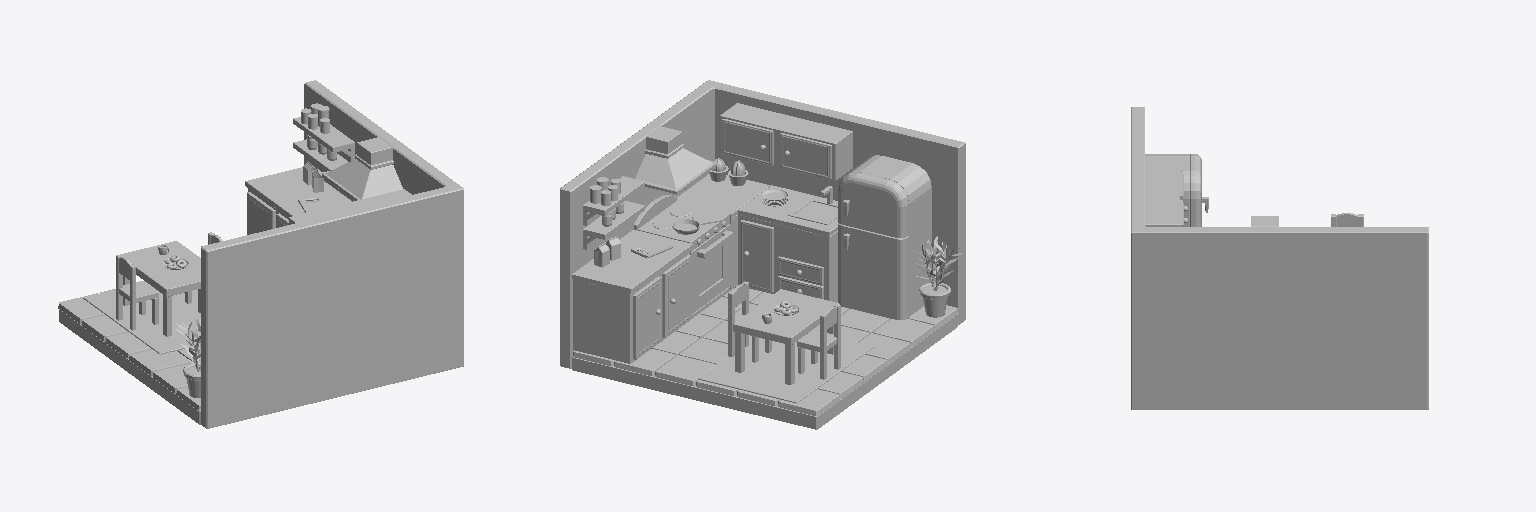
File: Kitchen.obj
3 views of the same model, side by side, from view 1: azimuth 30°, elevation 25°; view 2: azimuth 150°, elevation 25°; view 3: azimuth 270°, elevation 25° (orthographic).
Visible parts, largest first — view 1: Wall_Cube.003, Floor_tile_Cube.001, Counter_Icosphere, Carpet_Cube.057, Table_Cube.051, Hood_Cube.063, Floor_Cube, Chair.001_Cube.061, Plant_Cylinder.018, Wall_shelf_Icosphere.005, Hang_shelf.001_Cube.050, Wood_jar_Cylinder.006 (+1 smaller); view 2: Wall_Cube.003, Fridge_Cube.018, Floor_tile_Cube.001, Counter_Icosphere, Counter_with_sink_Cube.041, Wall_shelf_Icosphere.005, Stove_Cube.053, Floor_Cube, Carpet_Cube.057, Table_Cube.051, Hood_Cube.063, Counter_corner_Cube.021 (+6 smaller); view 3: Wall_Cube.003, Wall_shelf_Icosphere.005, Fridge_Cube.018.
Part boxes in pixels (x1,y1,x2,y2): Wall_Cube.003: (201,80,463,428); Floor_tile_Cube.001: (58,289,200,410); Counter_Icosphere: (245,167,351,234); Carpet_Cube.057: (83,282,200,354); Table_Cube.051: (120,241,200,336); Hood_Cube.063: (322,137,402,200); Floor_Cube: (59,309,200,424); Chair.001_Cube.061: (116,255,158,330); Plant_Cylinder.018: (175,318,200,397); Wall_shelf_Icosphere.005: (289,189,411,224); Hang_shelf.001_Cube.050: (293,117,354,161); Wood_jar_Cylinder.006: (301,103,329,133); Wall_Cube.003: (560,80,965,368); Fridge_Cube.018: (838,155,931,319); Floor_tile_Cube.001: (573,286,958,415); Counter_Icosphere: (572,230,692,363); Counter_with_sink_Cube.041: (738,185,837,302); Wall_shelf_Icosphere.005: (720,103,852,180); Stove_Cube.053: (634,195,732,318); Floor_Cube: (572,314,957,429); Carpet_Cube.057: (698,331,873,403); Table_Cube.051: (733,289,838,384); Hood_Cube.063: (635,126,716,194); Counter_corner_Cube.021: (677,174,769,289); Wall_Cube.003: (1131,107,1428,409); Wall_shelf_Icosphere.005: (1145,168,1187,226); Fridge_Cube.018: (1145,154,1208,226).
Bounding box in the file's own units: 7.88 × 5.01 × 7.57.